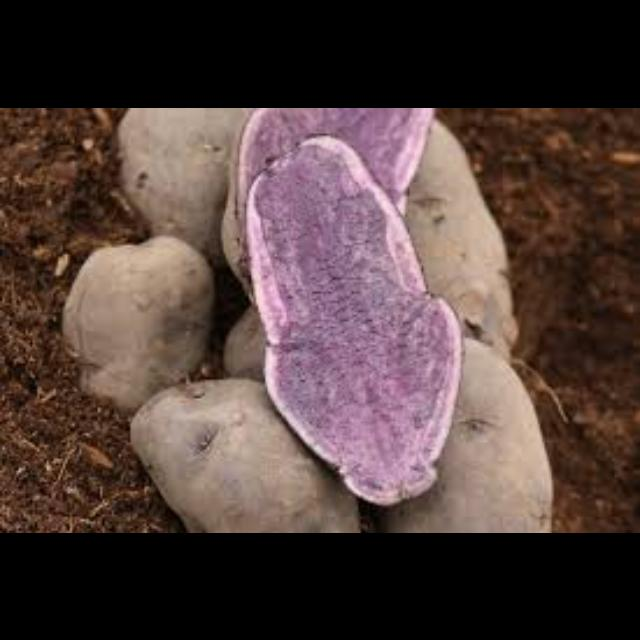Damaged potato: (368, 314, 558, 532), (126, 374, 372, 530), (393, 118, 531, 354), (57, 234, 221, 406), (110, 107, 254, 230)
Defected potato: (234, 137, 463, 497)
